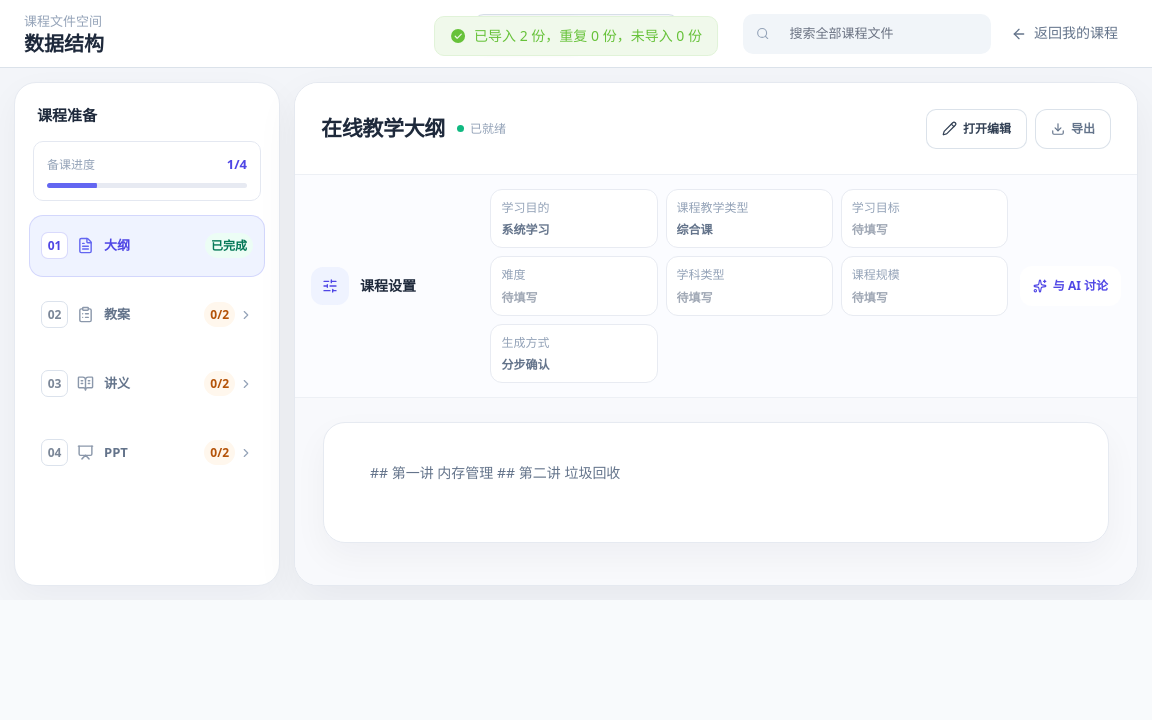
it: TeacherCourseSpaceView › 分类视图在左侧展开课次，并在右侧直接显示所选内容
Click the button with class "category-group__button" showing "02 教案 0/2" at (147, 315), box [29,284,265,346]
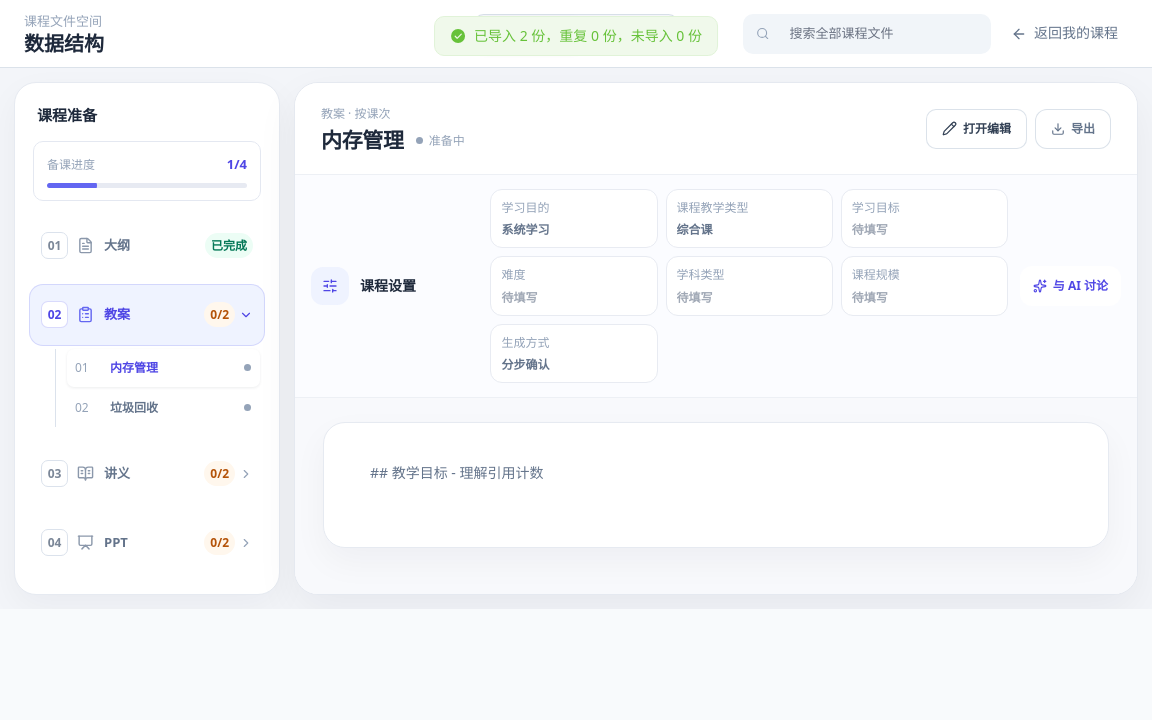
Check: the button with class "category-group__button" is expanded, box [29,284,265,346]
Check: the number of buttons with class "category-child" is 2
Check: the heading "内存管理" is shown, box [321,127,404,153]
Click the button with class "category-child" showing "02 垃圾回收" at (164, 408), box [67,389,260,427]
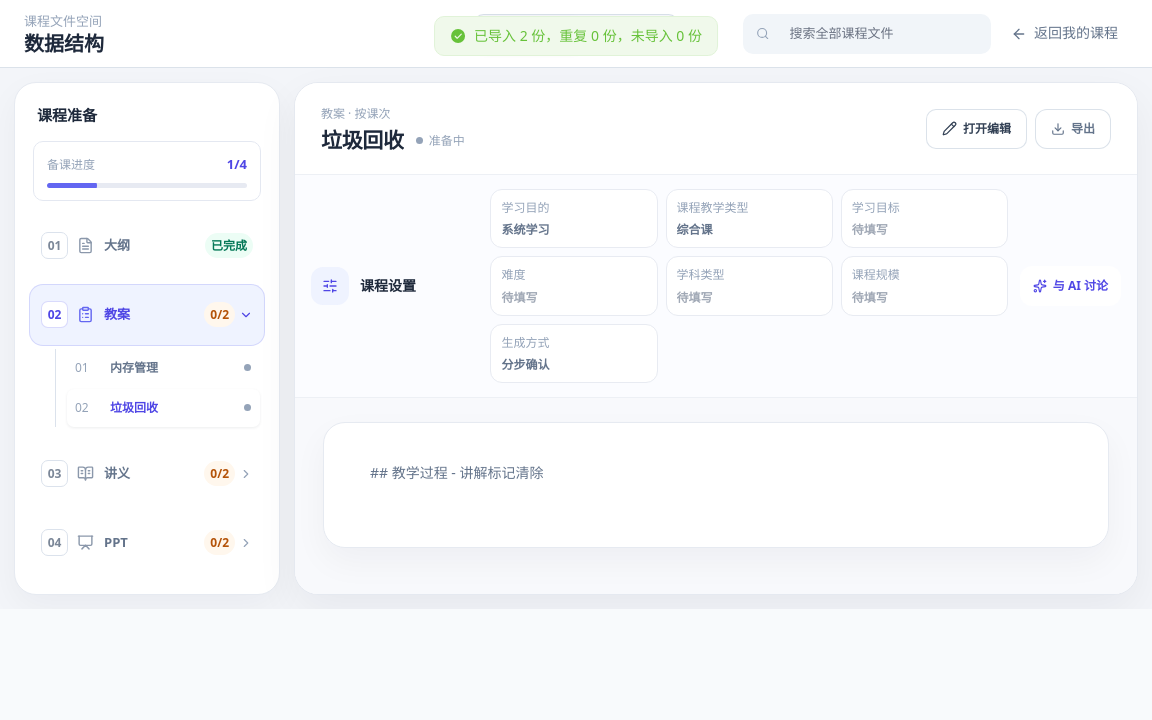
Check: the heading "垃圾回收" is shown, box [321,127,404,153]
Check: the element with class "category-document" shows "讲解标记清除", box [370,463,544,482]
